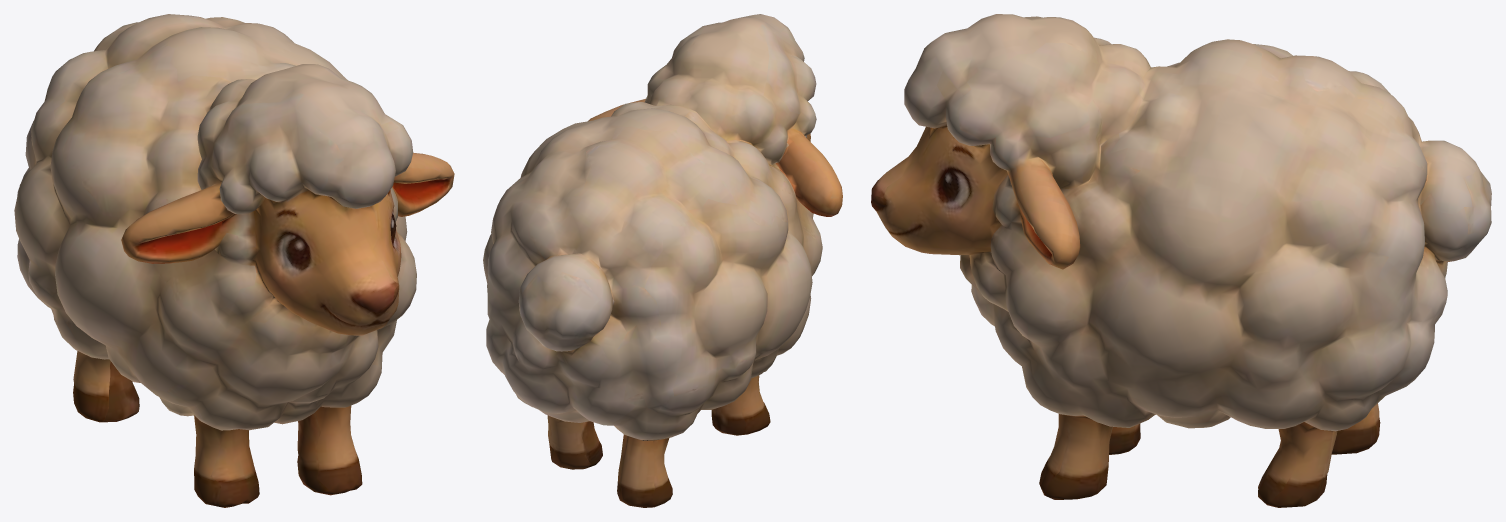
Rendered from sheep.glb.
3 views of the same model, side by side, from view 1: azimuth 30°, elevation 25°; view 2: azimuth 150°, elevation 25°; view 3: azimuth 270°, elevation 25° (orthographic). The views are drawn at different scales.
Parts seen in each view (by area): view 1: textured_mesh.obj; view 2: textured_mesh.obj; view 3: textured_mesh.obj.
Boxes of the visible parts, bbox=[...] form: textured_mesh.obj: bbox=[14, 14, 454, 507]; textured_mesh.obj: bbox=[483, 14, 842, 507]; textured_mesh.obj: bbox=[871, 14, 1491, 507].
Size of what is drawn, in the model's own units: 0.6951 by 0.9 by 1.13.
1 material, 1 textured.
